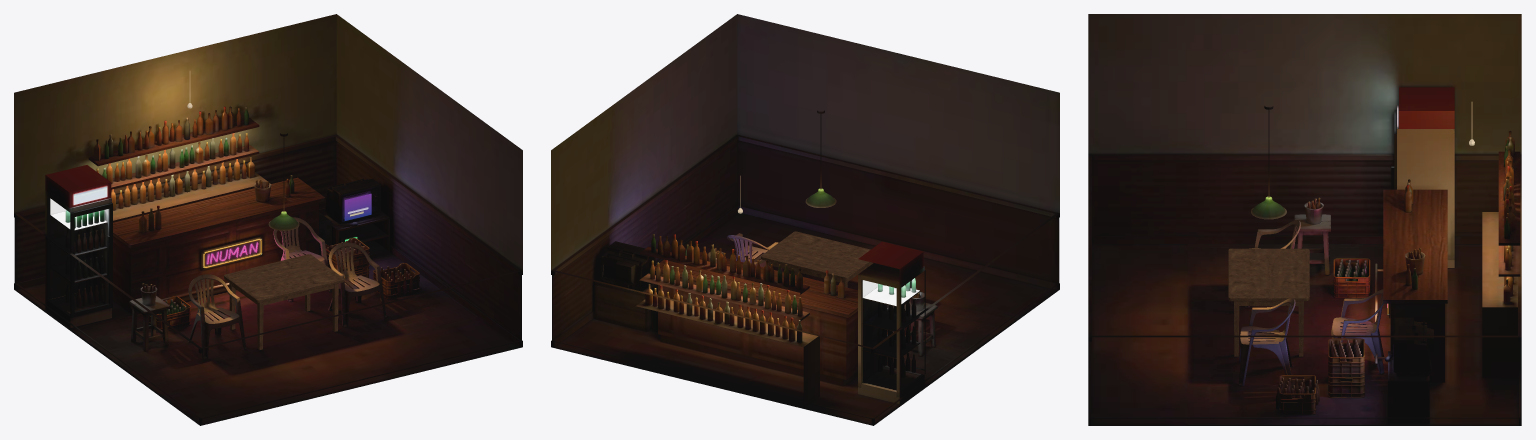
File: dive-bar-low.glb
3 views of the same model, side by side, from view 1: azimuth 30°, elevation 25°; view 2: azimuth 150°, elevation 25°; view 3: azimuth 270°, elevation 25° (orthographic). The views are drawn at different scales.
Visible parts, largest first — view 1: Background, Table; view 2: Background, Table; view 3: Background, Table.
Boxes of the visible parts, bbox=[...] form: Background: bbox=[14, 14, 522, 425]; Table: bbox=[224, 254, 343, 349]; Background: bbox=[551, 14, 1059, 425]; Table: bbox=[761, 231, 873, 287]; Background: bbox=[1088, 14, 1521, 425]; Table: bbox=[1228, 248, 1309, 356].
Size of the model in its own units: 4.8 by 2.8 by 4.8.
2 materials, 2 textured.
